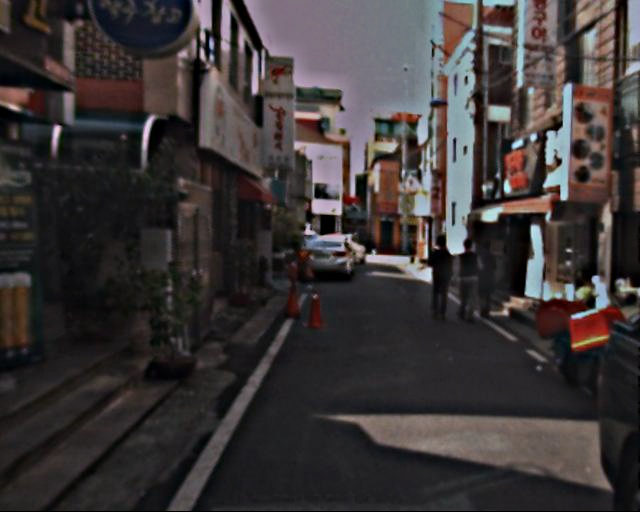person: (453, 237, 490, 327), (469, 237, 505, 326), (428, 238, 462, 322)
